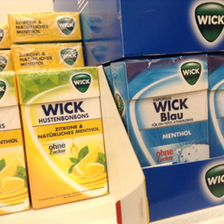candy: (18, 67, 113, 209), (110, 56, 213, 168)
